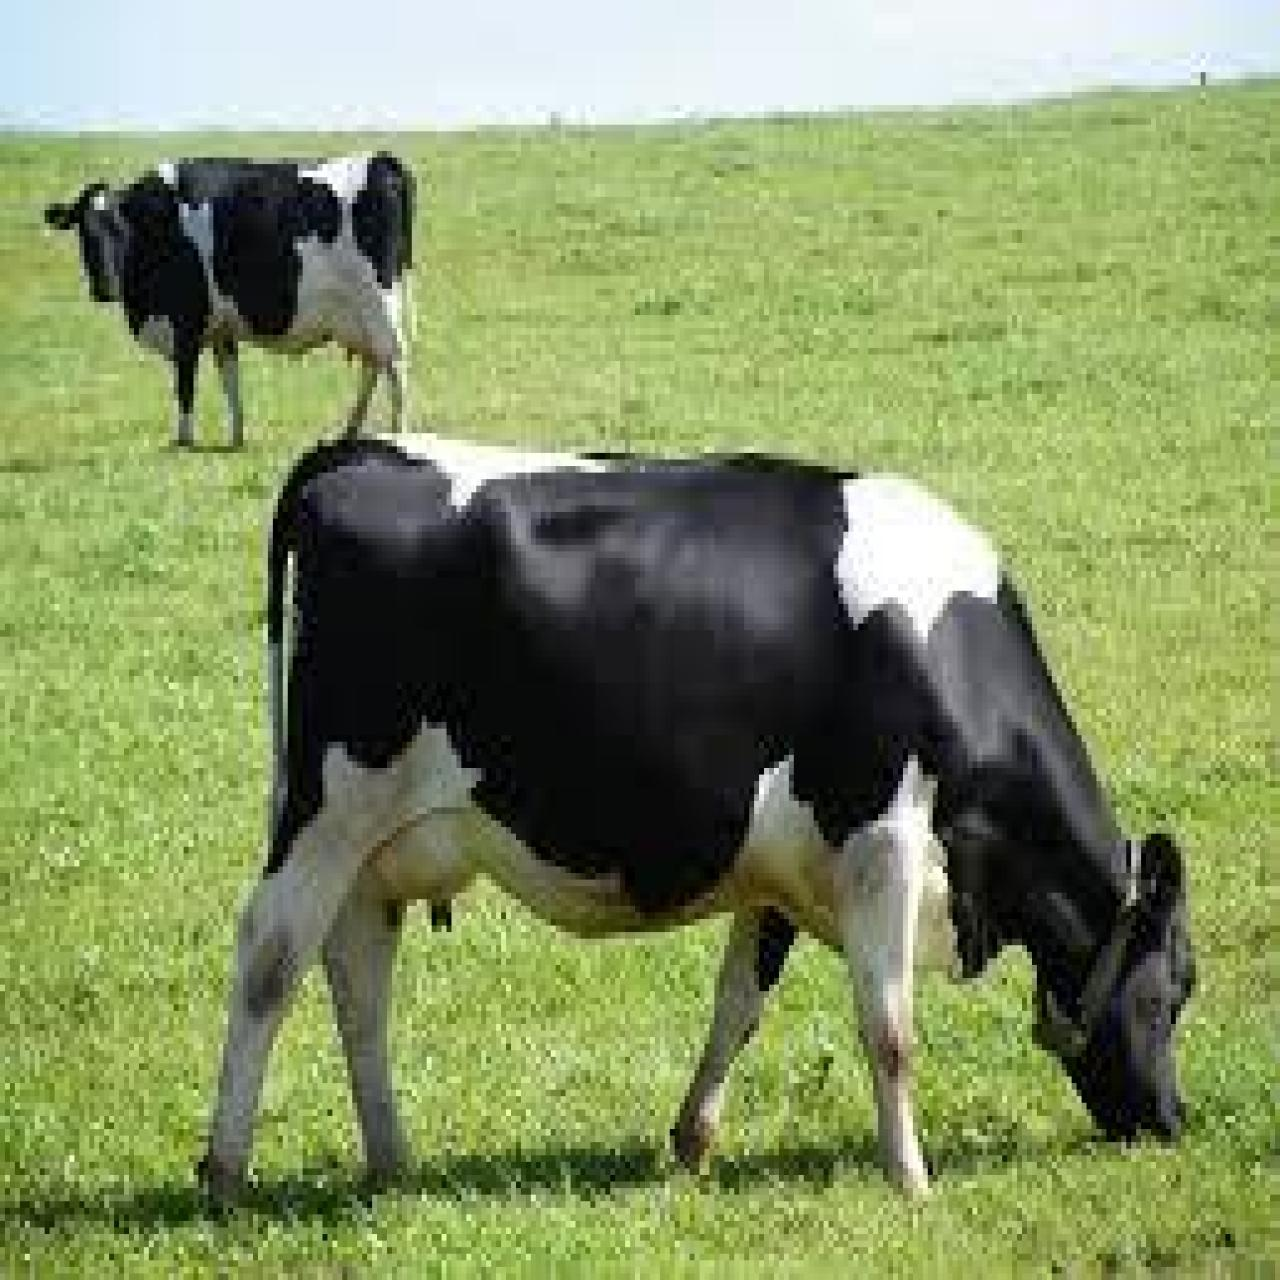cow: (198, 430, 1200, 1218), (42, 144, 418, 459)
